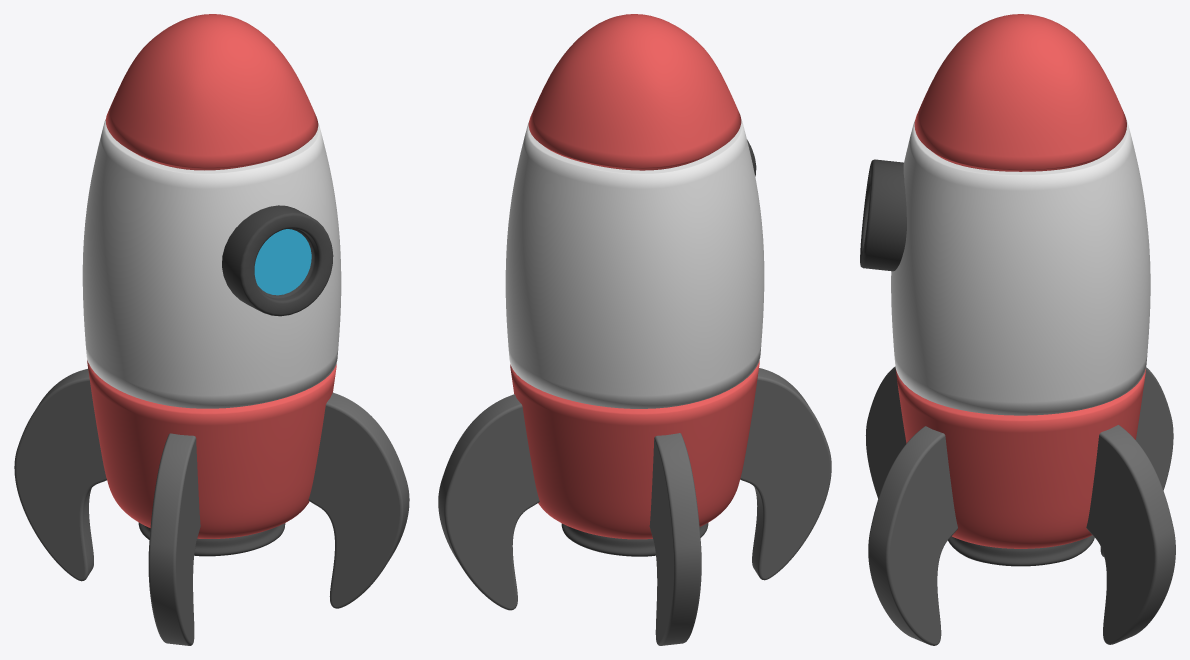
Rendered from rocket.gltf.
3 renders of one model, left to right at view 1: azimuth 30°, elevation 25°; view 2: azimuth 150°, elevation 25°; view 3: azimuth 270°, elevation 25°, orthographic.
Parts seen in each view (by area): view 1: RocketMainBody, RocketTopBody, RocketBottomBody, RocketFin3Obj, RocketFin1Obj, RocketFin4Obj, RocketWindow, RocketWindowGlass, RocketExhauster; view 2: RocketMainBody, RocketTopBody, RocketBottomBody, RocketFin2Obj, RocketFin4Obj, RocketFin1Obj, RocketExhauster; view 3: RocketMainBody, RocketTopBody, RocketBottomBody, RocketFin3Obj, RocketFin2Obj, RocketWindow, RocketFin4Obj, RocketFin1Obj, RocketExhauster.
Boxes of the visible parts, x1,y1,x2,y2 form: RocketMainBody: (82,119,341,408); RocketTopBody: (105,14,318,170); RocketBottomBody: (87,360,336,538); RocketFin3Obj: (308,392,409,608); RocketFin1Obj: (14,369,106,581); RocketFin4Obj: (148,433,200,645); RocketWindow: (222,205,333,316); RocketWindowGlass: (254,229,311,295); RocketExhauster: (138,522,285,556); RocketMainBody: (505,120,764,408); RocketTopBody: (528,14,741,170); RocketBottomBody: (510,360,759,539); RocketFin2Obj: (438,394,539,610); RocketFin4Obj: (740,368,831,580); RocketFin1Obj: (649,433,701,645); RocketExhauster: (561,523,708,556); RocketMainBody: (891,121,1150,415); RocketTopBody: (914,14,1126,171); RocketBottomBody: (895,369,1145,548); RocketFin3Obj: (868,426,957,645); RocketFin2Obj: (1086,425,1175,644); RocketWindow: (860,159,906,271); RocketFin4Obj: (865,366,906,498); RocketFin1Obj: (1100,367,1173,557); RocketExhauster: (948,535,1094,566).
Bounding box in the file's own units: 2.67 × 5.52 × 2.72.
